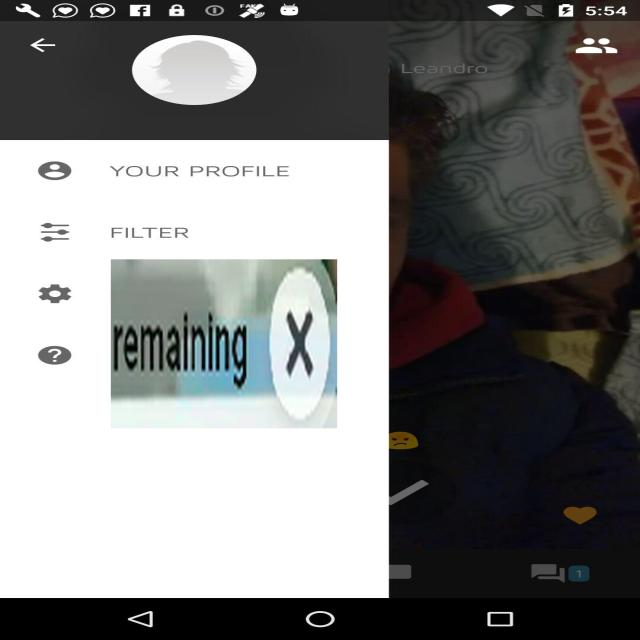misdirection: (111, 260, 337, 428)
